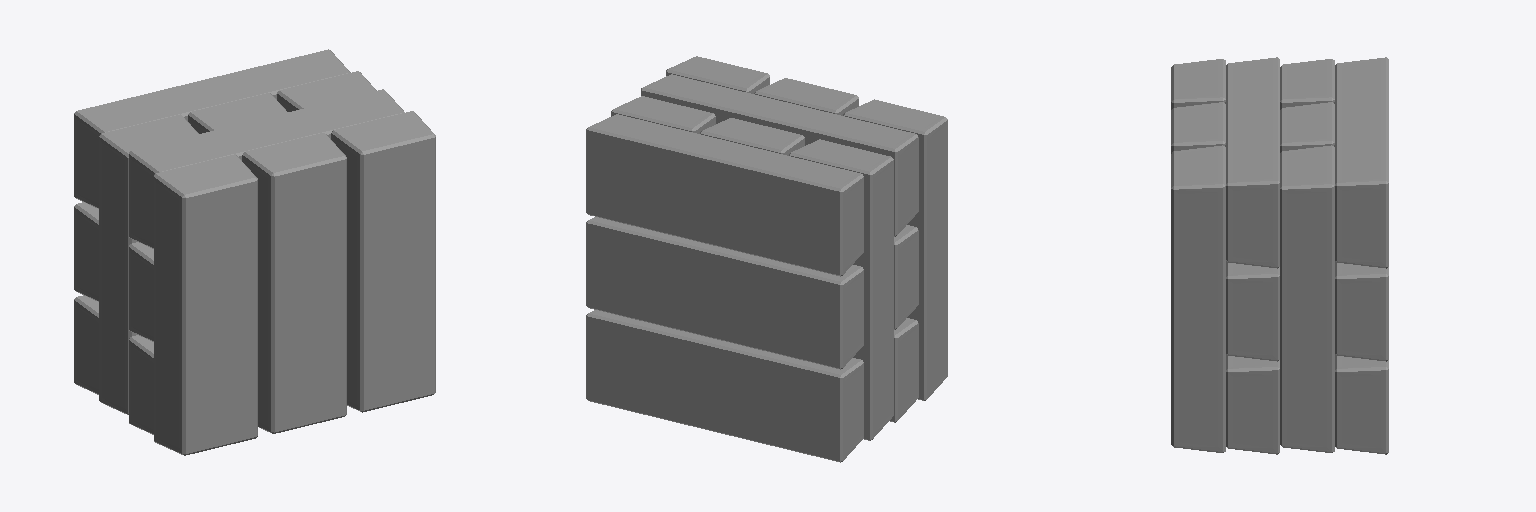
The model's file is gen_pku_gold_c.obj.
3 renders of one model, left to right at view 1: azimuth 30°, elevation 25°; view 2: azimuth 150°, elevation 25°; view 3: azimuth 270°, elevation 25°, orthographic.
Visible parts, largest first — view 1: g_g; view 2: g_g; view 3: g_g.
Boxes of the visible parts, <box> form: g_g: <box>74,49,435,455</box>; g_g: <box>586,56,947,462</box>; g_g: <box>1171,57,1388,454</box>.
Size of the model in its own units: 29.44 by 29.44 by 21.23.